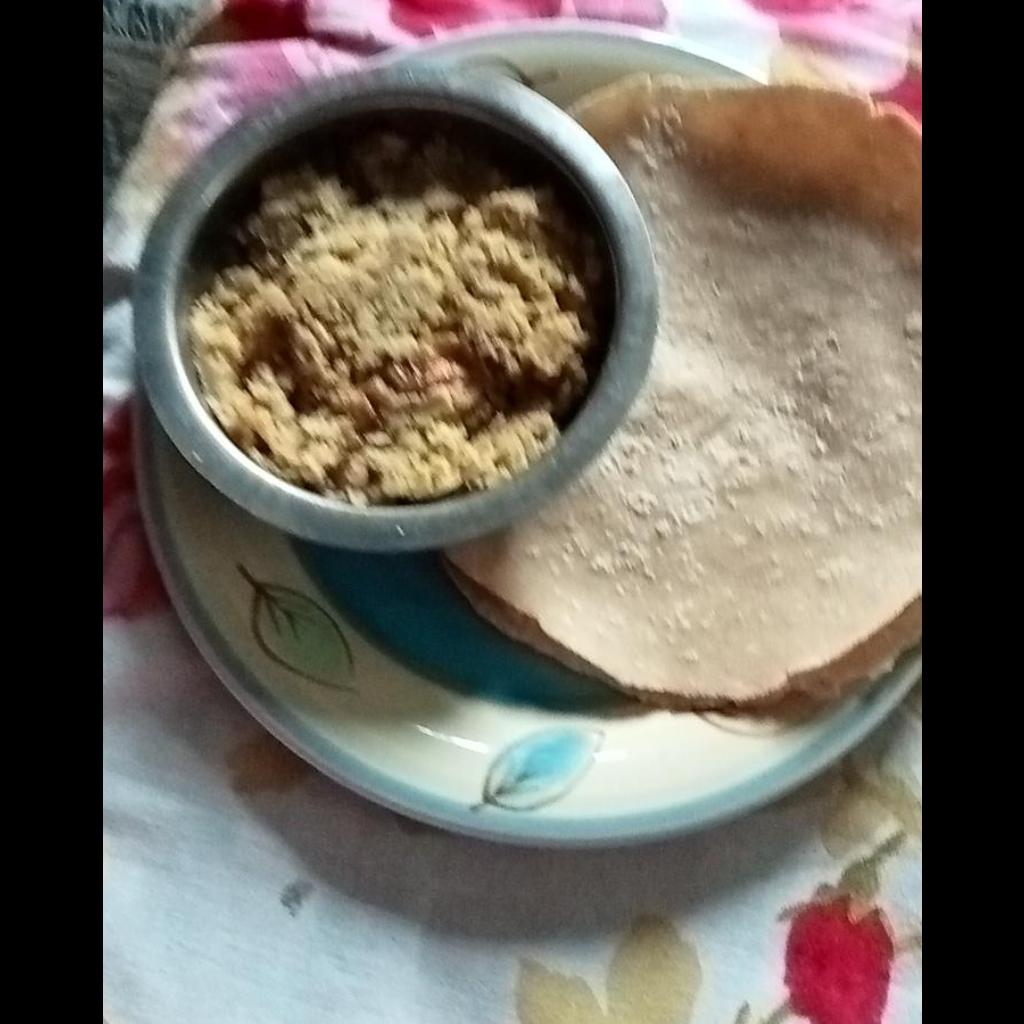daal: (186, 119, 608, 507)
ruti: (449, 73, 916, 706)
